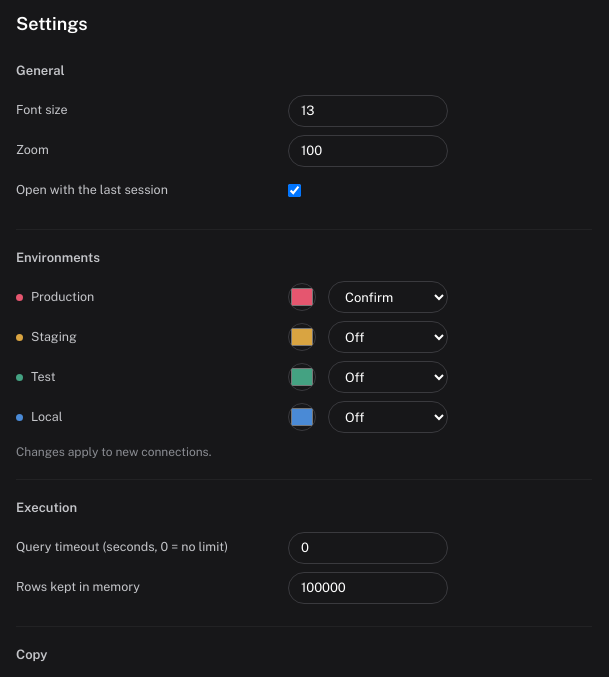
it: a failed save is reported
Click the checkbox labelled "Open with the last session": coordinates (294, 190) [288,184,301,197]
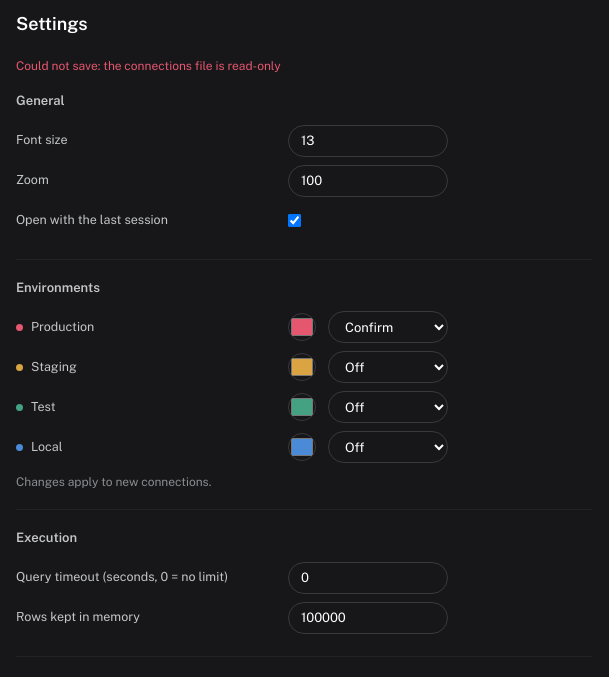
expect the message "Could not save: the connections file is read-only" is shown: met, box [16,59,281,73]
